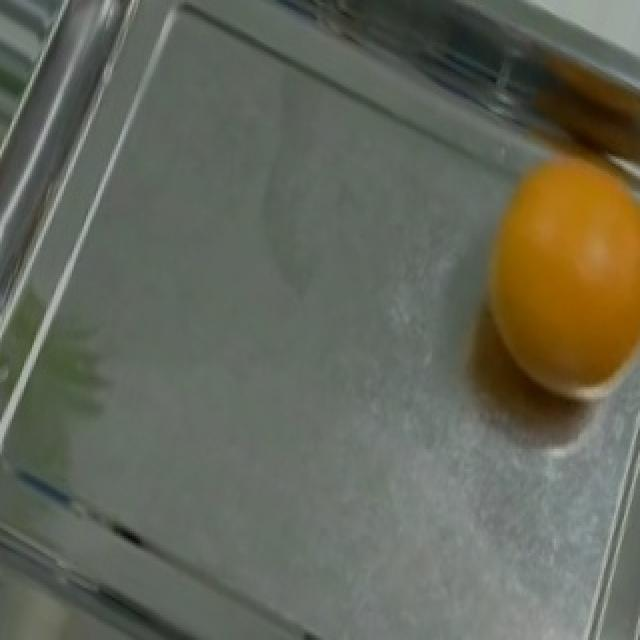Fruit: (476, 144, 640, 427)
